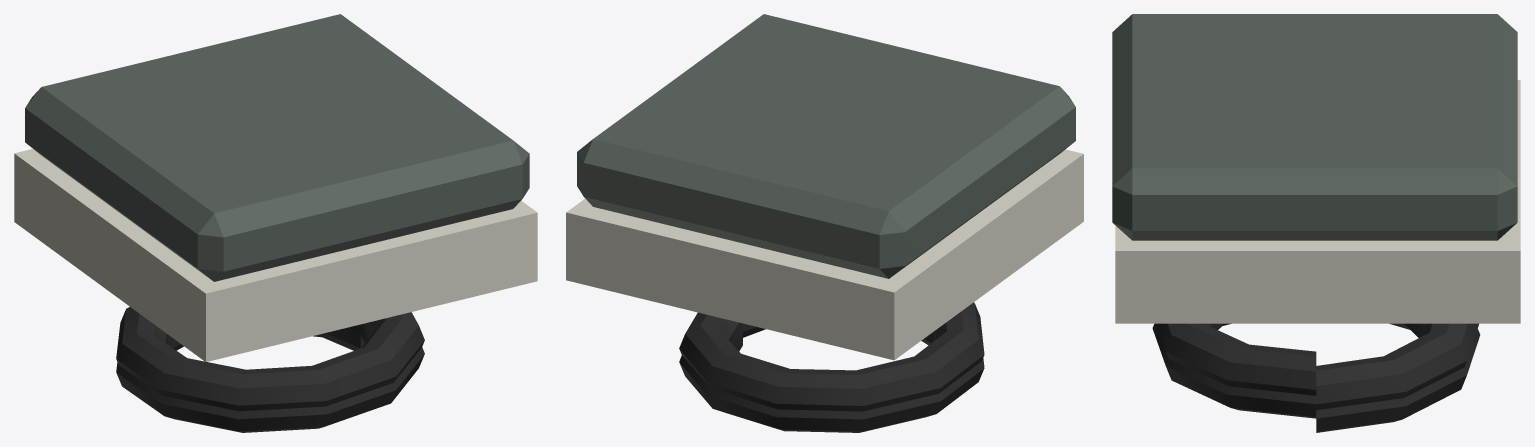
The model's file is GON-jumpplate-bounce.fbx.
3 renders of one model, left to right at view 1: azimuth 30°, elevation 25°; view 2: azimuth 150°, elevation 25°; view 3: azimuth 270°, elevation 25°, orthographic. The views are drawn at different scales.
Parts seen in each view (by area): view 1: polySurface6, polySurface3, pasted__polySurface1; view 2: polySurface6, polySurface3, pasted__polySurface1; view 3: polySurface6, polySurface3, pasted__polySurface1.
Part boxes in pixels (x1,y1,x2,y2): polySurface6: (25, 14, 529, 281); polySurface3: (14, 149, 537, 361); pasted__polySurface1: (116, 307, 424, 432); polySurface6: (577, 14, 1075, 278); polySurface3: (566, 149, 1083, 360); pasted__polySurface1: (679, 302, 984, 432); polySurface6: (1112, 14, 1517, 240); polySurface3: (1115, 80, 1520, 323); pasted__polySurface1: (1152, 323, 1480, 432).
Bounding box in the file's own units: 3.2 × 2.49 × 3.22.
Materials: 2 (2 with a texture image).
